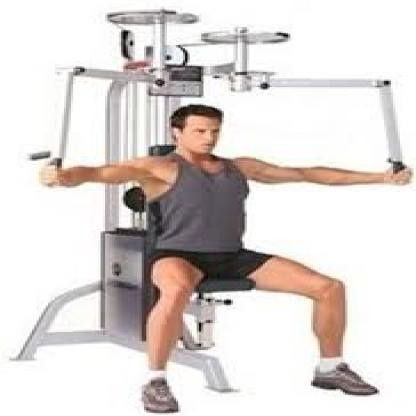chest fly machine: (7, 4, 416, 416)
